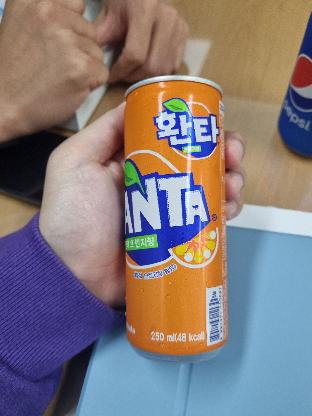Can: (121, 77, 247, 370)
